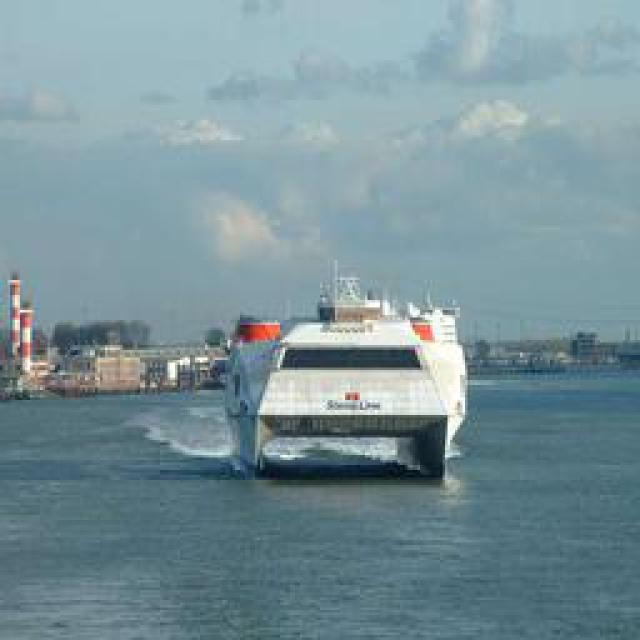Ship: (219, 310, 469, 483)
